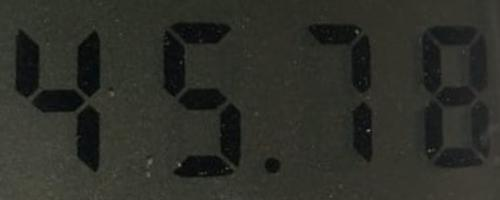.: (262, 154, 281, 176)
